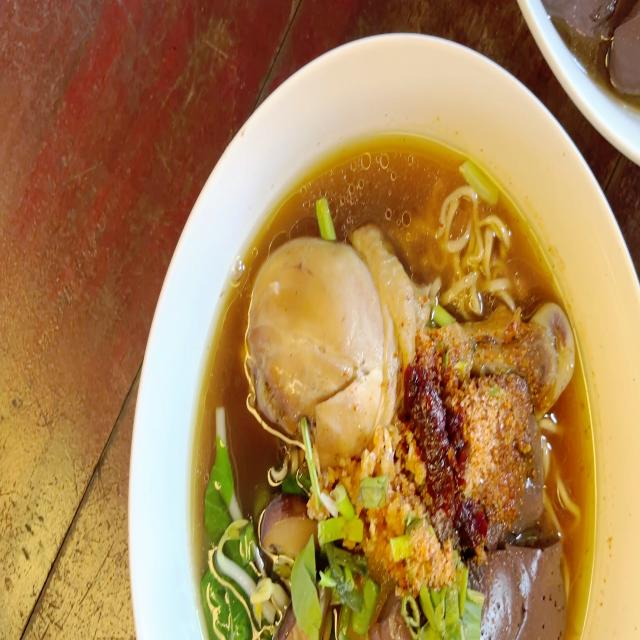boiled_chicken_blood_jelly: (461, 541, 566, 637)
chicken_drumstick: (246, 230, 577, 427)
noodle: (176, 126, 606, 640)
